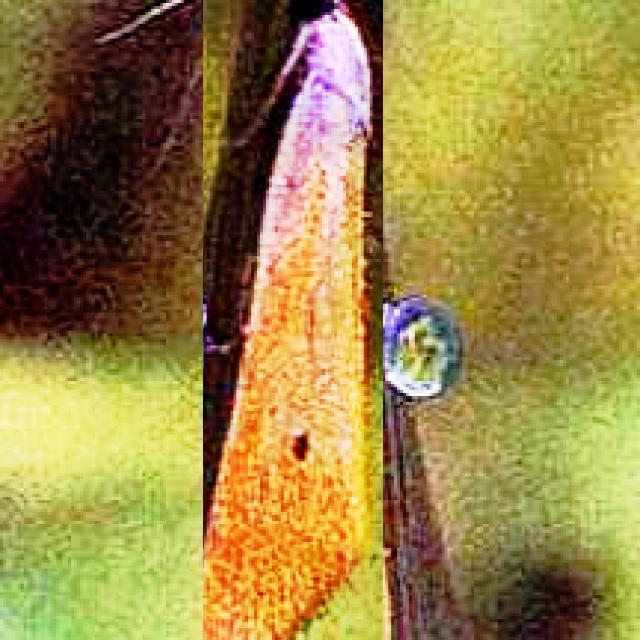stem-borer: (203, 0, 383, 640)
